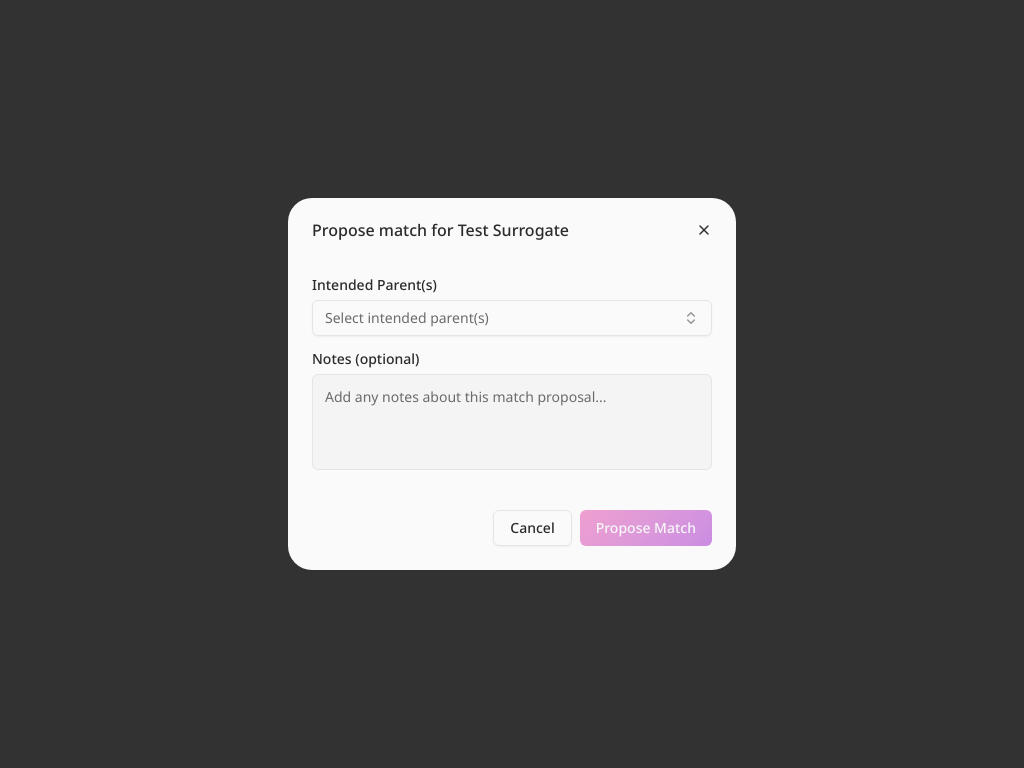
Test case: ProposeMatchDialog › filters intended parents by typed text and selects one
The image size is (1024, 768).
Click the button "Select intended parent(s)". click: (407, 318)
box: [312, 300, 712, 336]
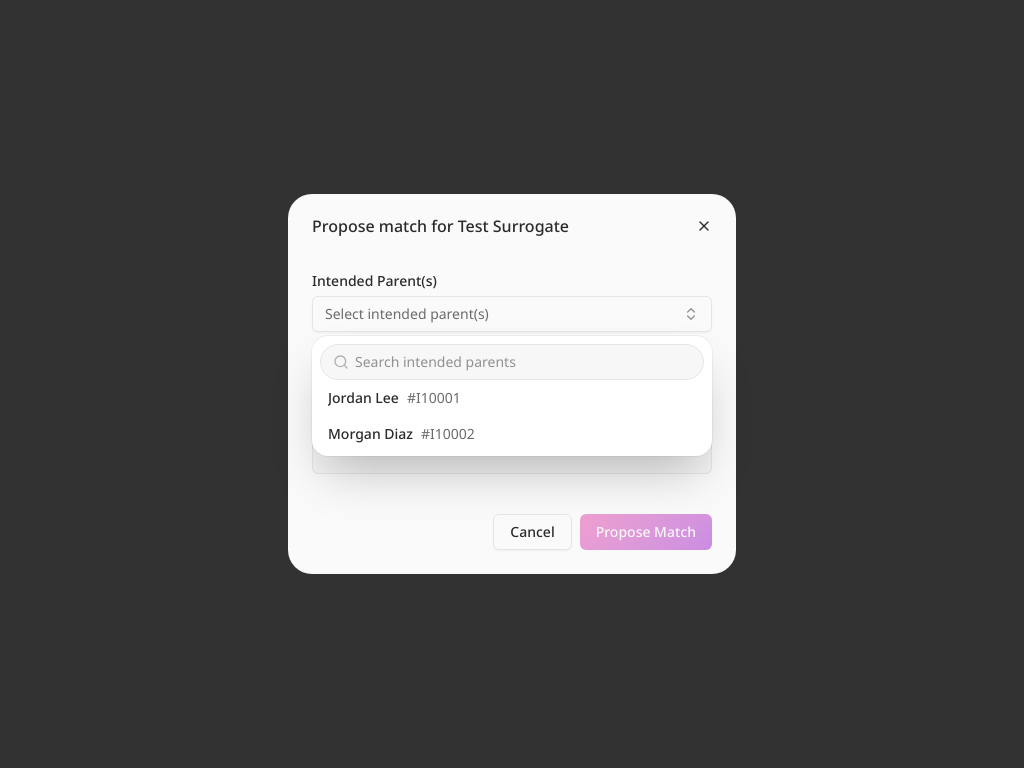
Type "morg" into the dropdown labelled "Search intended parents". click: (526, 362)
box: [349, 352, 703, 372]
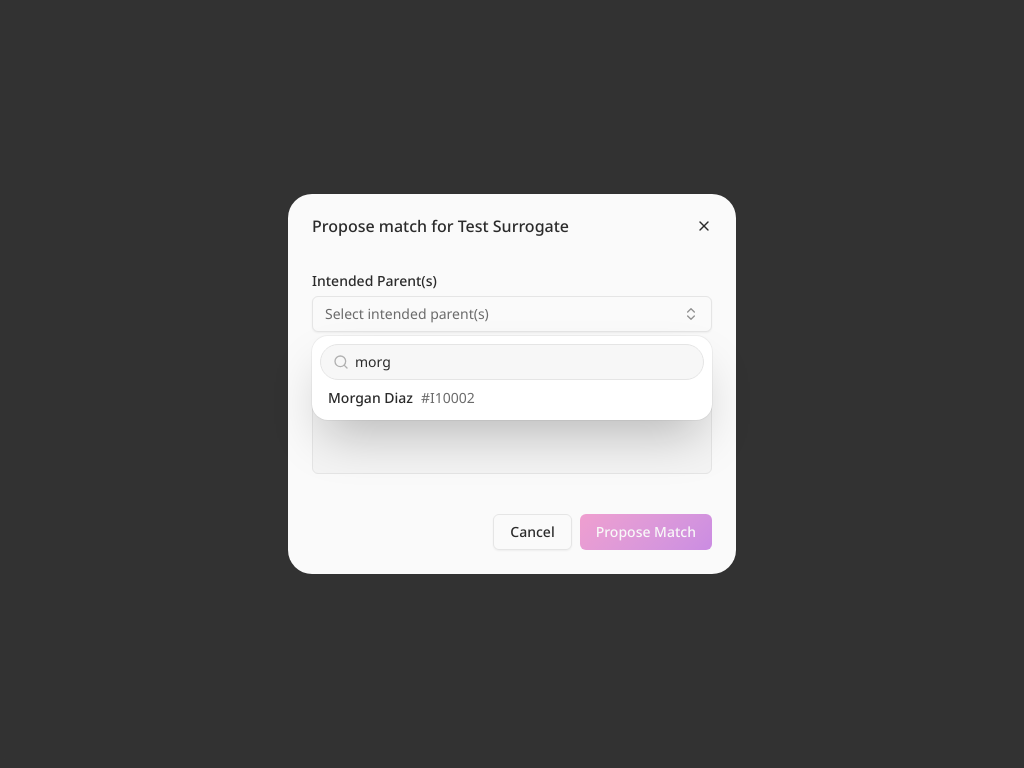
Now the option "Jordan Lee" is gone
Click the text "Morgan Diaz". click: (370, 398)
box: [328, 388, 413, 408]
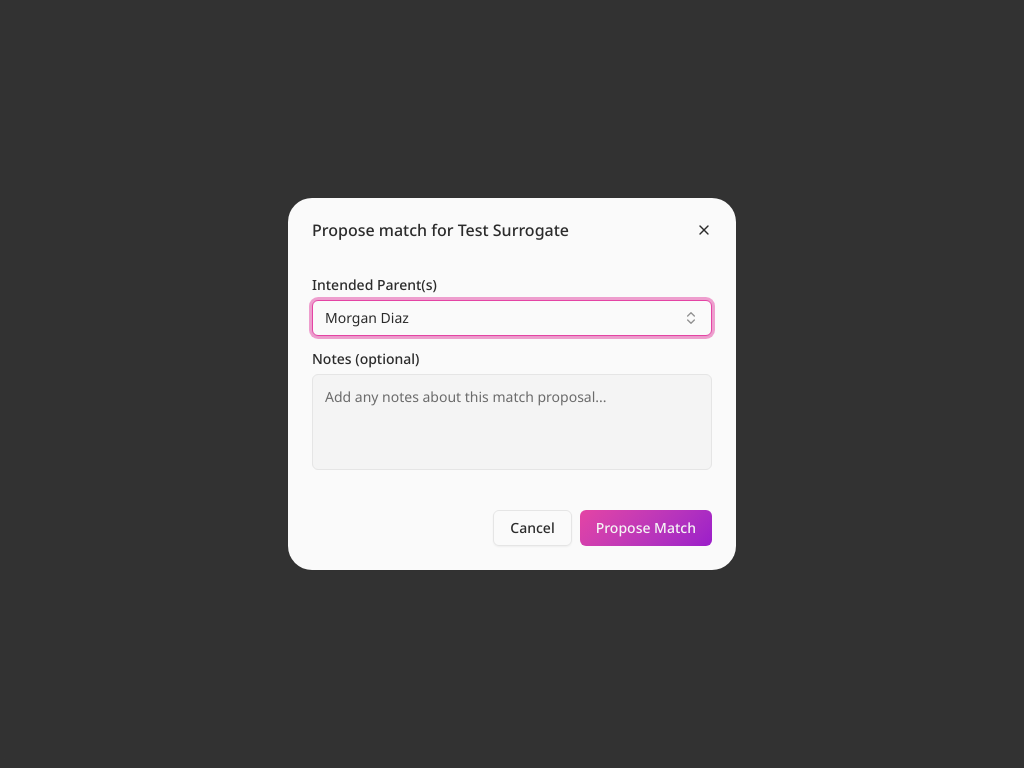
Expected: the dropdown labelled "Search intended parents" is not shown
Now the button named "intended parent(s)" reads "Morgan Diaz", box [312, 300, 712, 336]
Now the button "Propose Match" is enabled, box [580, 510, 712, 546]
